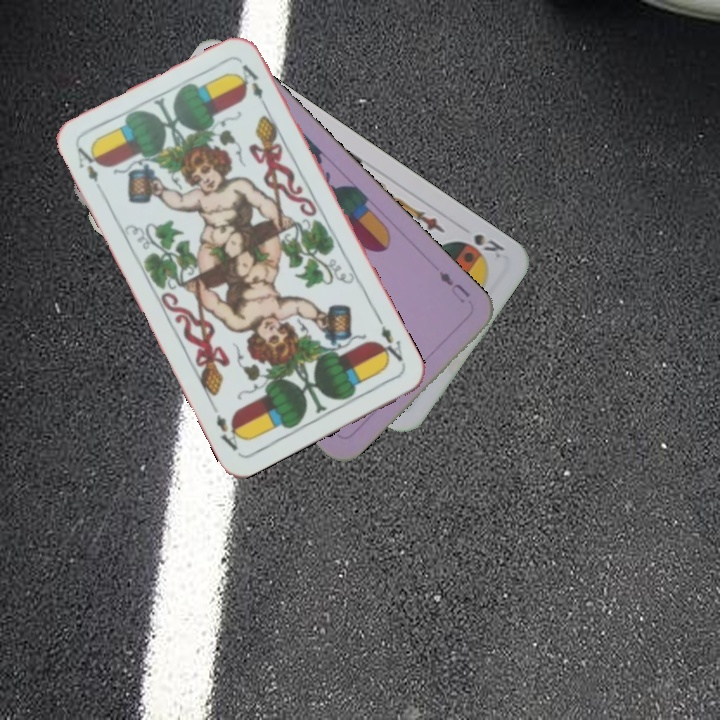EA: (373, 313, 408, 368), (73, 142, 105, 185)
EU: (435, 267, 473, 306)
SK: (469, 229, 507, 261)
